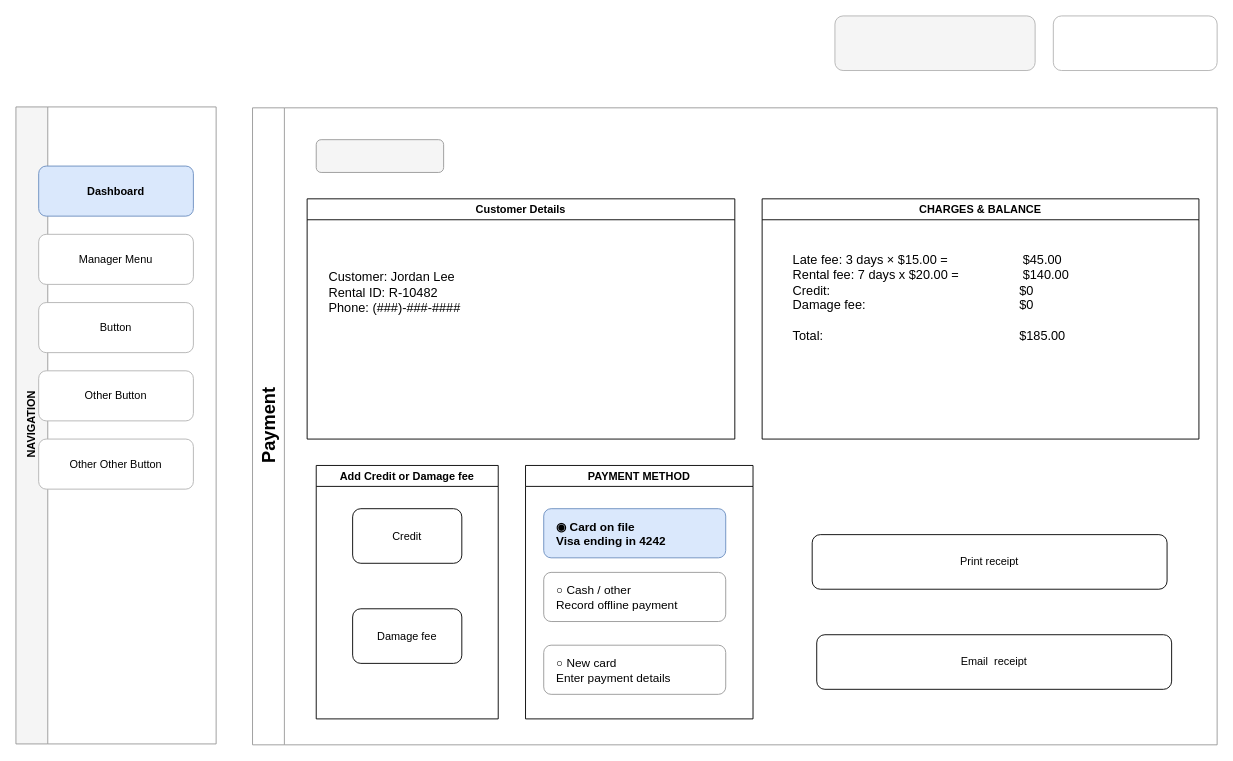
This 1233x761 diagram has some shape labels left out. The centre of each missing label's shape, as x and y in pixels:
"10:42 AM Tuesday, March 12" belongs at [1134,43].
"< Back to Review" belongs at [379,155].
"Staff: Name" belongs at [934,43].
